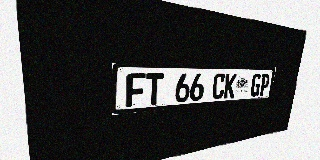6: (174, 73, 191, 103), (189, 73, 205, 102)
C: (211, 73, 226, 100)
F: (126, 73, 146, 107)
G: (250, 73, 262, 97)
K: (223, 73, 237, 99)
P: (259, 73, 271, 96)
T: (145, 73, 164, 105)
